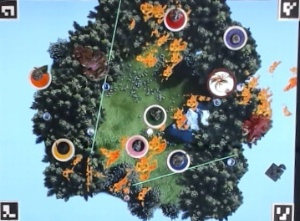blue: (166, 147, 193, 174)
green: (143, 102, 168, 129)
orange: (28, 65, 52, 88)
pink: (127, 133, 151, 156)
red: (161, 6, 190, 32)
violet: (223, 24, 249, 50)
yellow: (52, 135, 75, 161)
